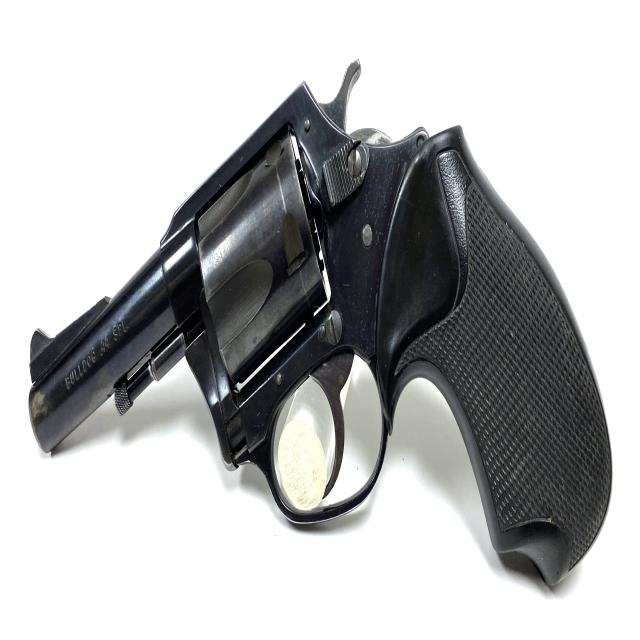Gun: (20, 71, 618, 595), (27, 128, 29, 137)
